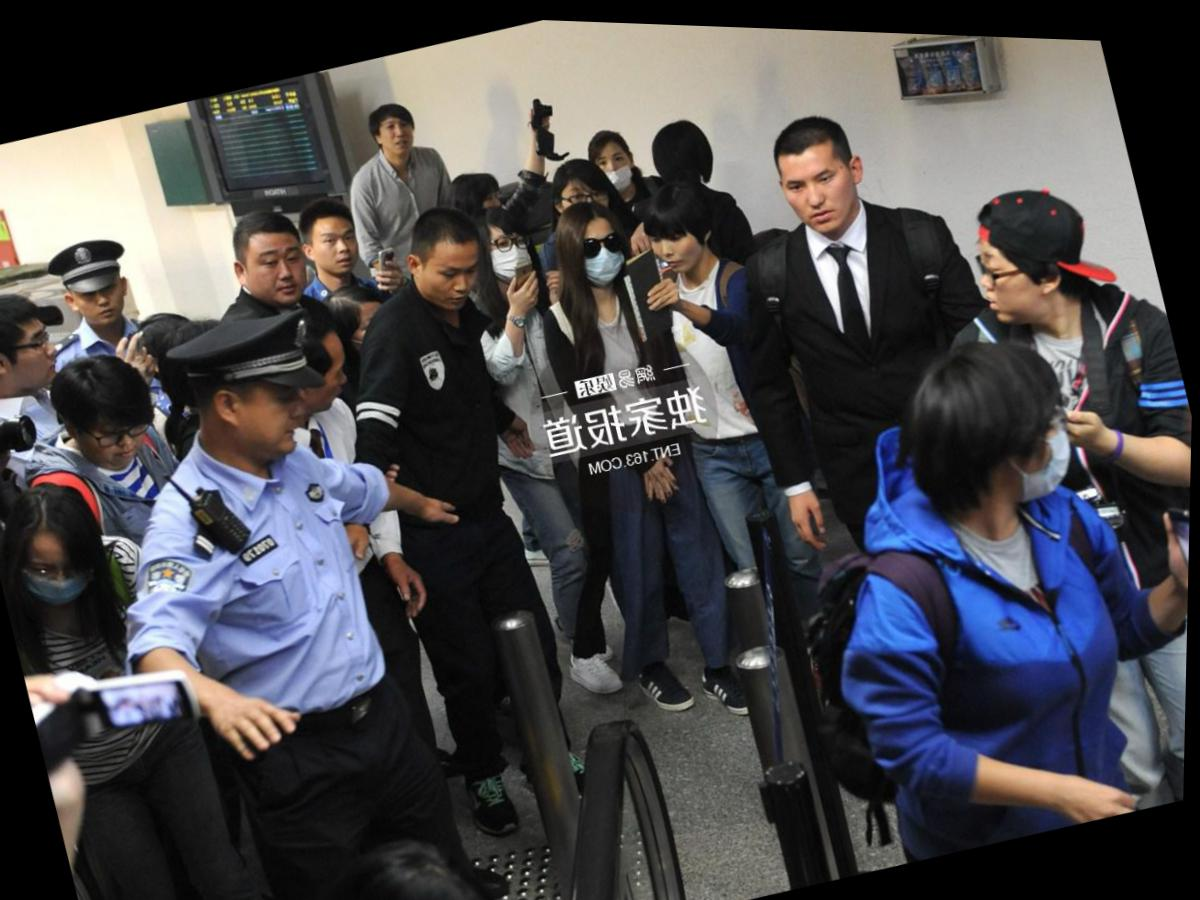NONE: (973, 228, 1053, 322), (235, 381, 318, 469), (781, 148, 866, 233), (299, 338, 366, 418), (85, 401, 156, 475), (1, 319, 69, 395), (422, 247, 491, 316), (251, 234, 317, 305), (559, 171, 621, 234), (652, 216, 709, 275), (76, 275, 132, 331), (316, 221, 367, 276), (380, 114, 416, 152)
OK: (983, 400, 1088, 507), (21, 531, 103, 613), (573, 214, 637, 288), (475, 212, 542, 279)
WRONG: (594, 136, 642, 186)
